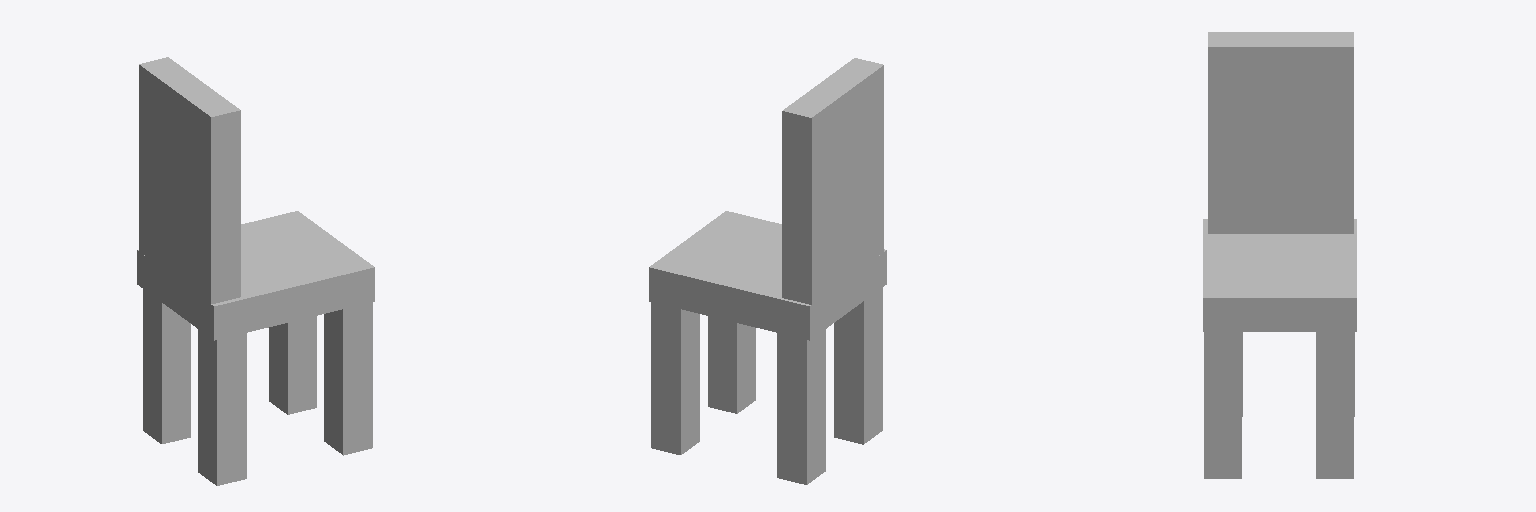
The model's file is DibujoTribu.obj.
3 views of the same model, side by side, from view 1: azimuth 30°, elevation 25°; view 2: azimuth 150°, elevation 25°; view 3: azimuth 270°, elevation 25° (orthographic).
Parts seen in each view (by area): view 1: Cubo.004; view 2: Cubo.004; view 3: Cubo.004.
Boxes of the visible parts, <box> form: Cubo.004: <box>137,57,374,485</box>; Cubo.004: <box>649,58,886,484</box>; Cubo.004: <box>1203,32,1356,478</box>.
Bounding box in the file's own units: 2.56 × 5.6 × 2.13.